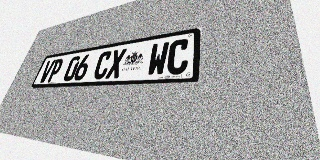0: (62, 55, 82, 81)
6: (72, 54, 92, 81)
C: (166, 38, 190, 75), (92, 50, 113, 80)
P: (46, 58, 65, 82)
V: (38, 60, 56, 83)
W: (146, 41, 170, 76)
X: (105, 48, 127, 79)
